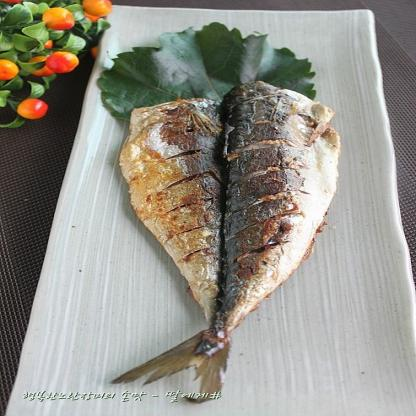Peixe: (85, 84, 379, 397)
